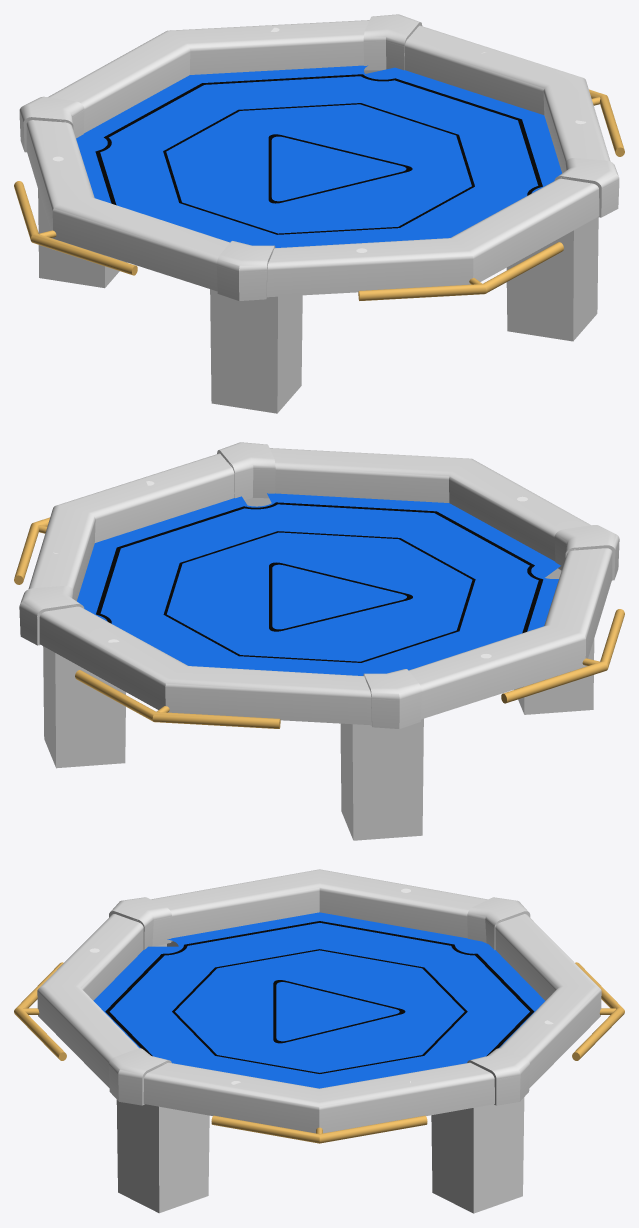
The model's file is Octagon.fbx.
The picture shows the model from 3 angles, top to bottom: view 1: azimuth 30°, elevation 25°; view 2: azimuth 150°, elevation 25°; view 3: azimuth 270°, elevation 25°; orthographic projection. The views are drawn at different scales.
Visible parts, largest first — view 1: DisplayBase, EdgeHighlight, Hole1TriggerSide2, Hole2TriggerSide2, Hole2TriggerSide1, Hole1TriggerSide1, Handle2, Hole4TriggerSide2, MiddleRing.001, Handle1, MiddleRing, HoleGlow1 (+5 smaller); view 2: DisplayBase, EdgeHighlight, Hole4TriggerSide4, Hole3TriggerSide4, Handle4, Hole1TriggerSide4, MiddleRing.001, Handle1, MiddleRing, HoleGlow4, HoleGlow2, Hole3TriggerSide3 (+5 smaller); view 3: DisplayBase, EdgeHighlight, Hole3TriggerSide3, Hole2TriggerSide3, Hole2TriggerSide1, Hole3TriggerSide1, Handle3, MiddleRing.001, MiddleRing, HoleGlow3, HoleGlow2, HoleGlow1 (+4 smaller).
Boxes of the visible parts, <box> form: DisplayBase: <box>76,65,561,247</box>; EdgeHighlight: <box>19,20,619,300</box>; Hole1TriggerSide2: <box>210,289,277,413</box>; Hole2TriggerSide2: <box>506,230,573,341</box>; Hole2TriggerSide1: <box>573,217,598,340</box>; Hole1TriggerSide1: <box>277,295,302,413</box>; Handle2: <box>358,242,563,300</box>; Hole4TriggerSide2: <box>38,189,104,288</box>; MiddleRing.001: <box>95,74,542,205</box>; Handle1: <box>14,181,137,275</box>; MiddleRing: <box>163,103,474,234</box>; HoleGlow1: <box>216,241,275,272</box>; DisplayBase: <box>77,493,560,675</box>; EdgeHighlight: <box>19,448,619,728</box>; Hole4TriggerSide4: <box>352,718,423,840</box>; Hole3TriggerSide4: <box>55,653,125,768</box>; Handle4: <box>75,670,280,728</box>; Hole1TriggerSide4: <box>524,639,594,714</box>; MiddleRing.001: <box>96,502,543,633</box>; Handle1: <box>501,609,624,703</box>; MiddleRing: <box>163,531,475,662</box>; HoleGlow4: <box>363,669,421,700</box>; HoleGlow2: <box>217,442,275,474</box>; Hole3TriggerSide3: <box>43,646,55,766</box>; DisplayBase: <box>93,912,544,1088</box>; EdgeHighlight: <box>37,869,601,1133</box>; Hole3TriggerSide3: <box>473,1097,524,1213</box>; Hole2TriggerSide3: <box>159,1106,209,1212</box>; Hole2TriggerSide1: <box>116,1100,159,1212</box>; Hole3TriggerSide1: <box>431,1108,473,1213</box>; Handle3: <box>211,1115,427,1143</box>; MiddleRing.001: <box>105,921,534,1056</box>; MiddleRing: <box>172,949,467,1073</box>; HoleGlow3: <box>467,1048,529,1079</box>; HoleGlow2: <box>108,1048,171,1079</box>; HoleGlow1: <box>109,897,171,928</box>.
Size of the model in its own units: 2.54 by 0.6651 by 2.54.
